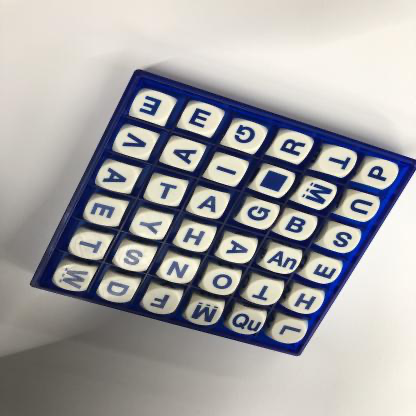a: (99, 164, 137, 192), (165, 141, 202, 169), (193, 191, 228, 217), (220, 237, 255, 263)
an: (267, 248, 301, 275)
b: (280, 215, 315, 239)
d: (103, 276, 137, 302)
e: (85, 200, 127, 228), (181, 105, 220, 134), (135, 93, 173, 121), (306, 257, 341, 284)
f: (146, 289, 180, 312)
g: (228, 123, 264, 150), (243, 201, 276, 228)
h: (178, 225, 214, 251), (289, 288, 323, 315)
i: (210, 158, 245, 183)
l: (273, 320, 306, 345)
m: (300, 181, 337, 206), (190, 301, 223, 326)
n: (163, 255, 198, 285)
o: (203, 270, 238, 296)
p: (362, 161, 397, 189)
qu: (231, 310, 267, 335)
r: (273, 133, 310, 162)
s: (114, 246, 154, 274), (326, 226, 360, 252)
t: (148, 178, 185, 206), (319, 148, 355, 176), (70, 233, 107, 260), (249, 280, 284, 305)
u: (344, 194, 379, 220)
v: (117, 129, 155, 156)
w: (56, 264, 93, 292)
wild: (258, 169, 294, 195)
y: (133, 211, 170, 239)
